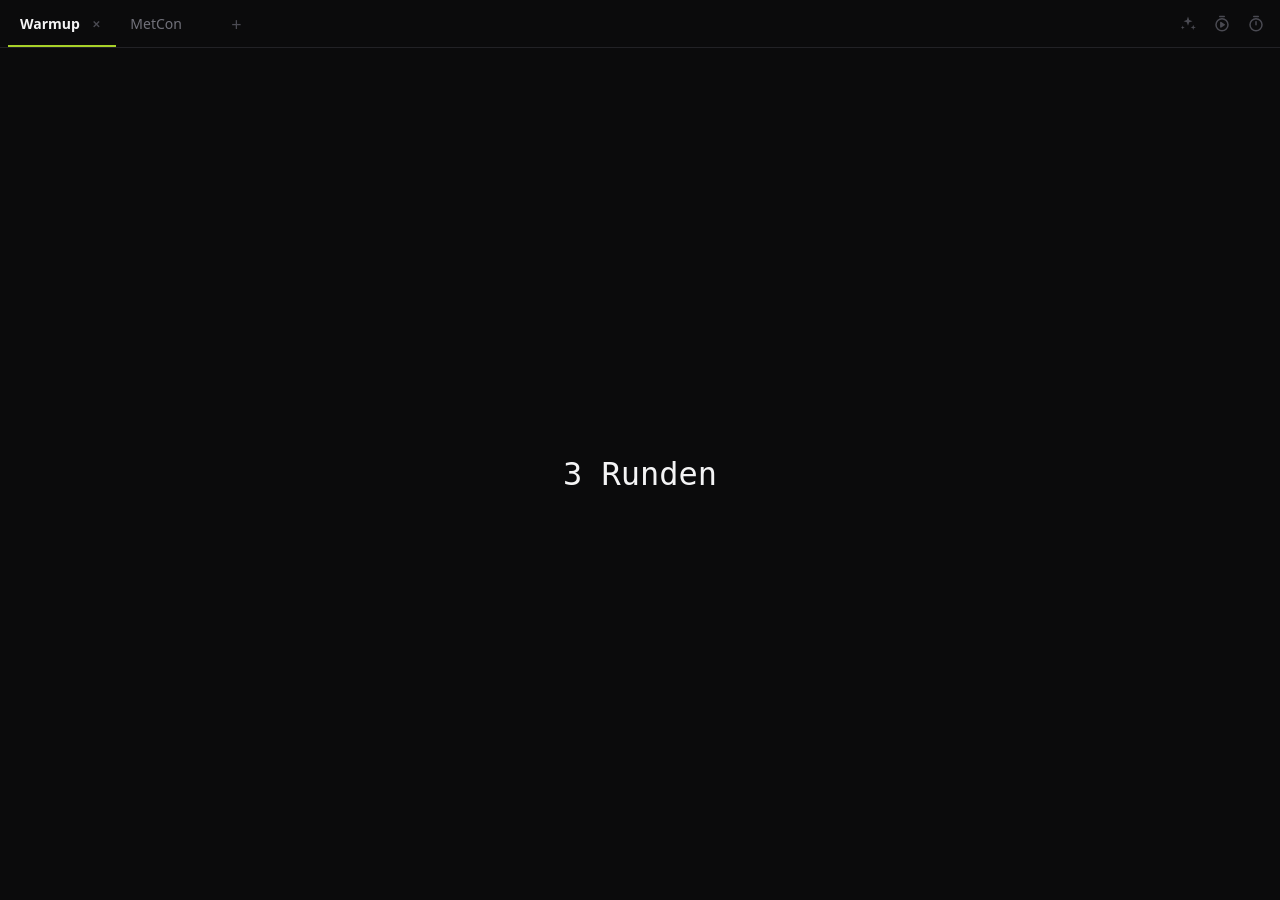
it: WorkoutEditor Dauer-Schätzung › schließt das Popover bei Klick außerhalb
Click the button named "Dauer schätzen" at (1256,24), box [1240,8,1272,40]
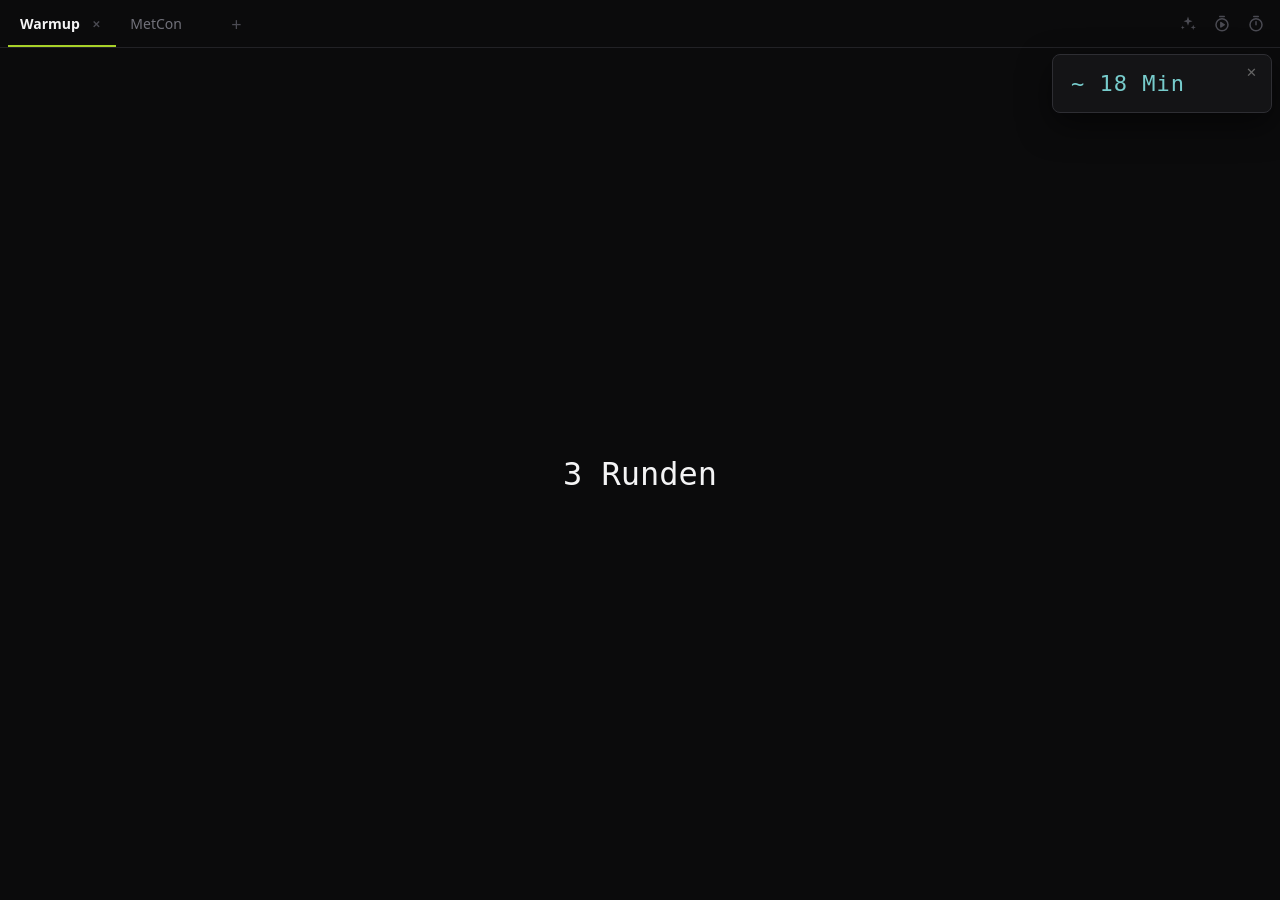
Result: the dialog with class "estimate-popover" is shown at [1052,54,1272,113]
Press the mouse on the field with class "workout-editor" at (640,474), box [563,455,717,493]
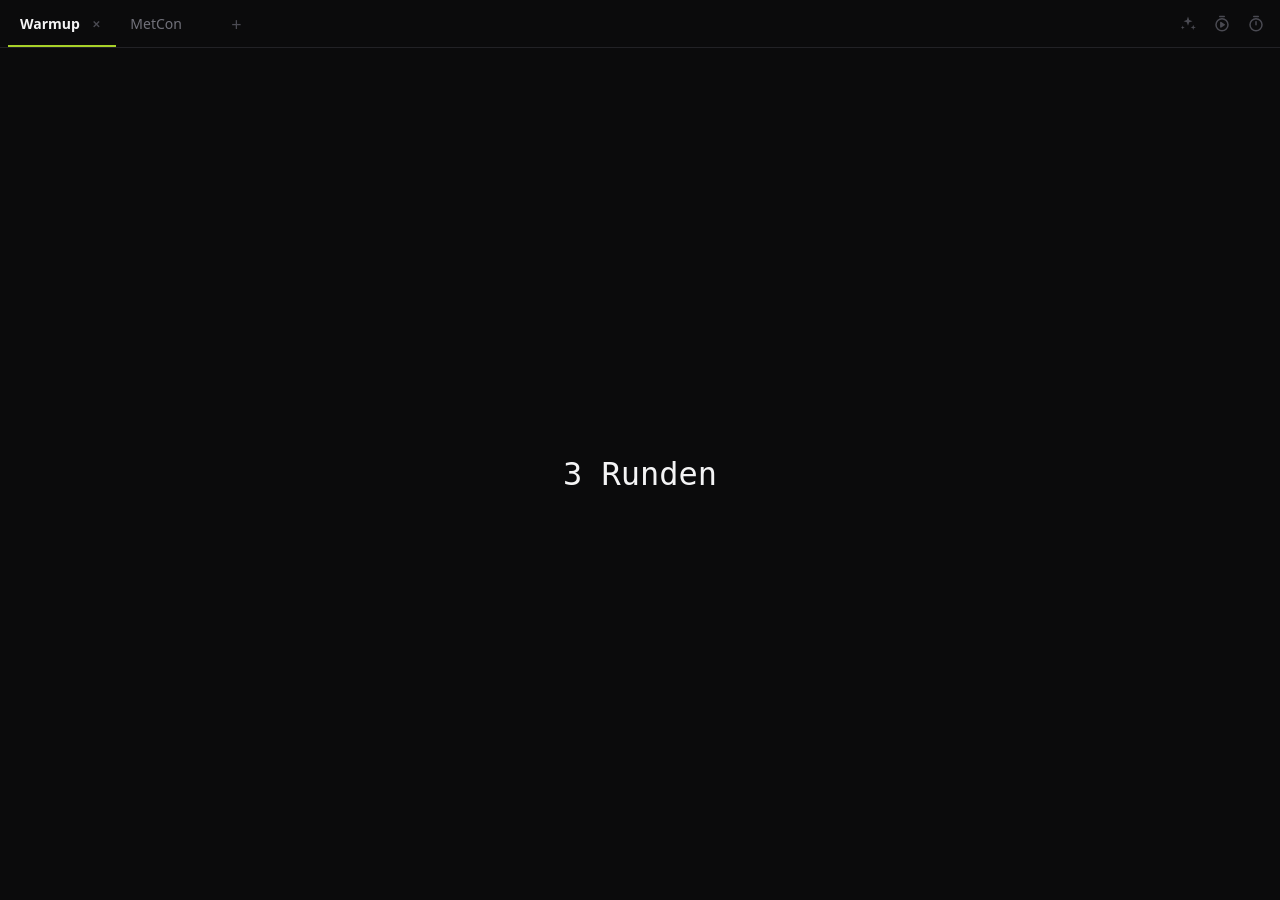
Result: the dialog with class "estimate-popover" is gone
